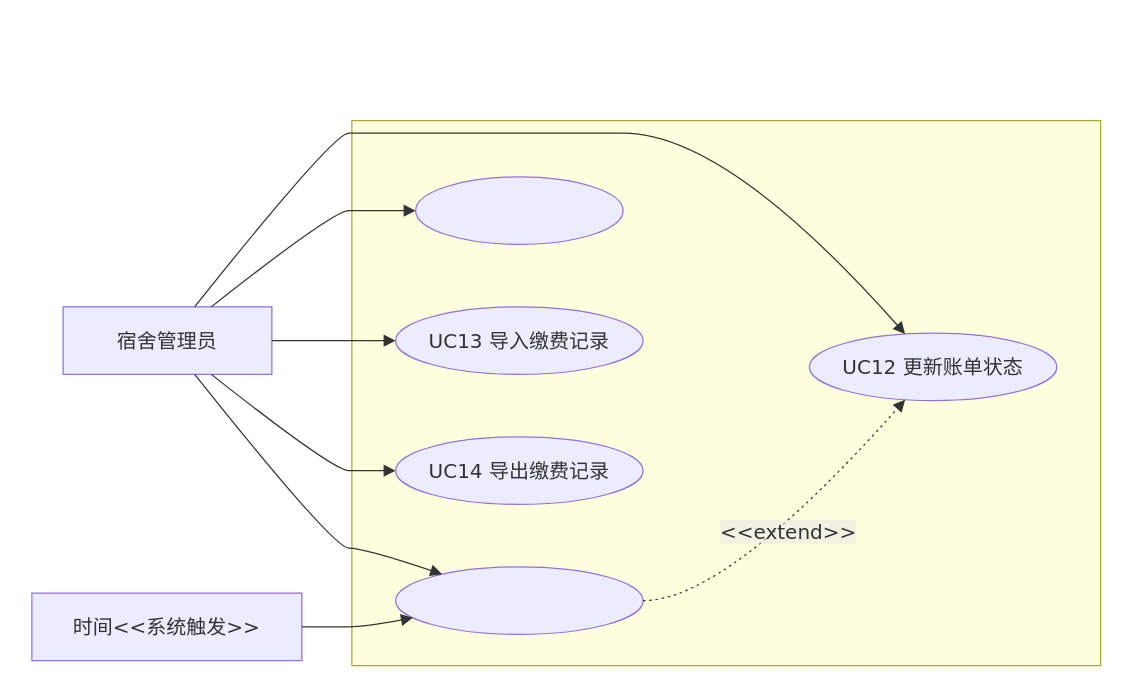
The diagram is 1123 pixels wide and 688 high, and some of its shapes have lost their labels. The box of each missing label's shape, as (x1, y1, x2, y2) in pixels:
UC10 生成缴费账单: (394, 566, 643, 634)
UC11 查询账单: (414, 176, 623, 244)
缴费记录管理: (351, 119, 1101, 666)
